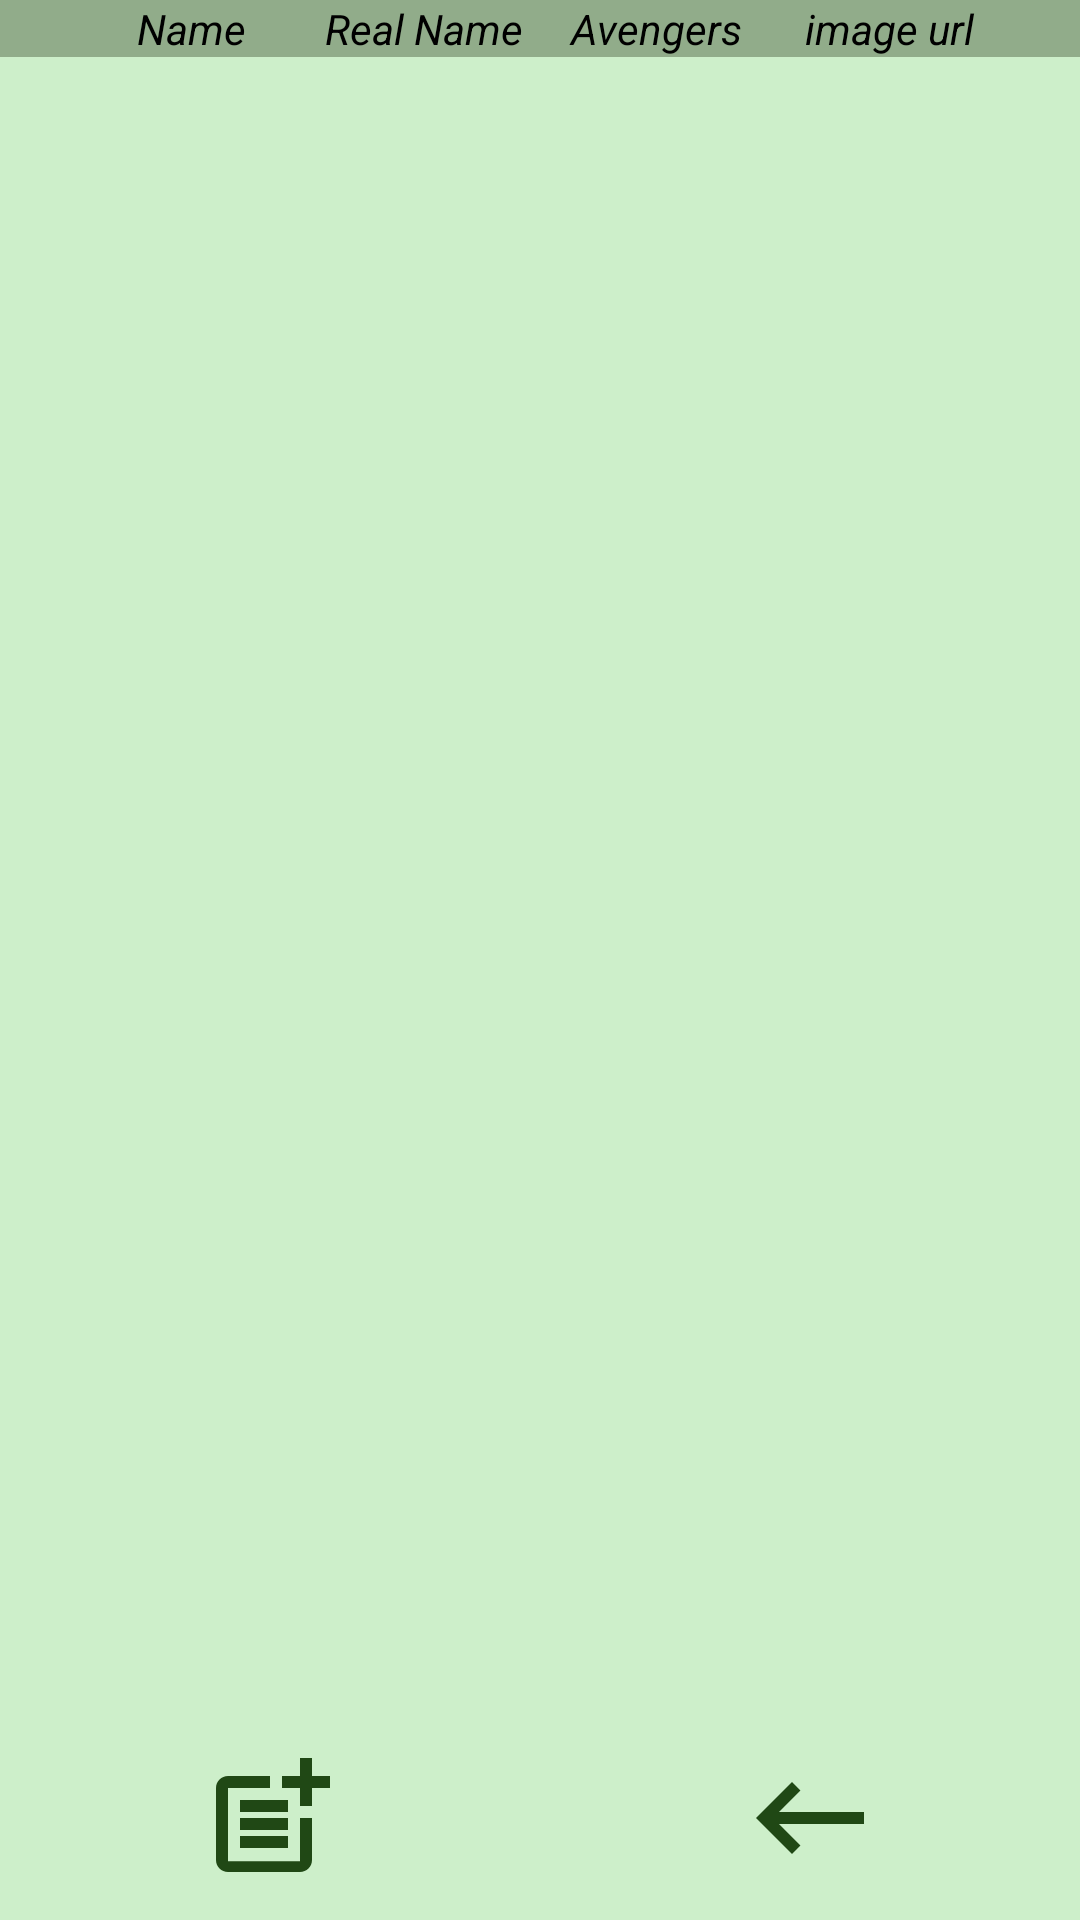

Icons on this 1080x1920 Android screen, each with the point to tap as (x,y):
add: (273,1815)
